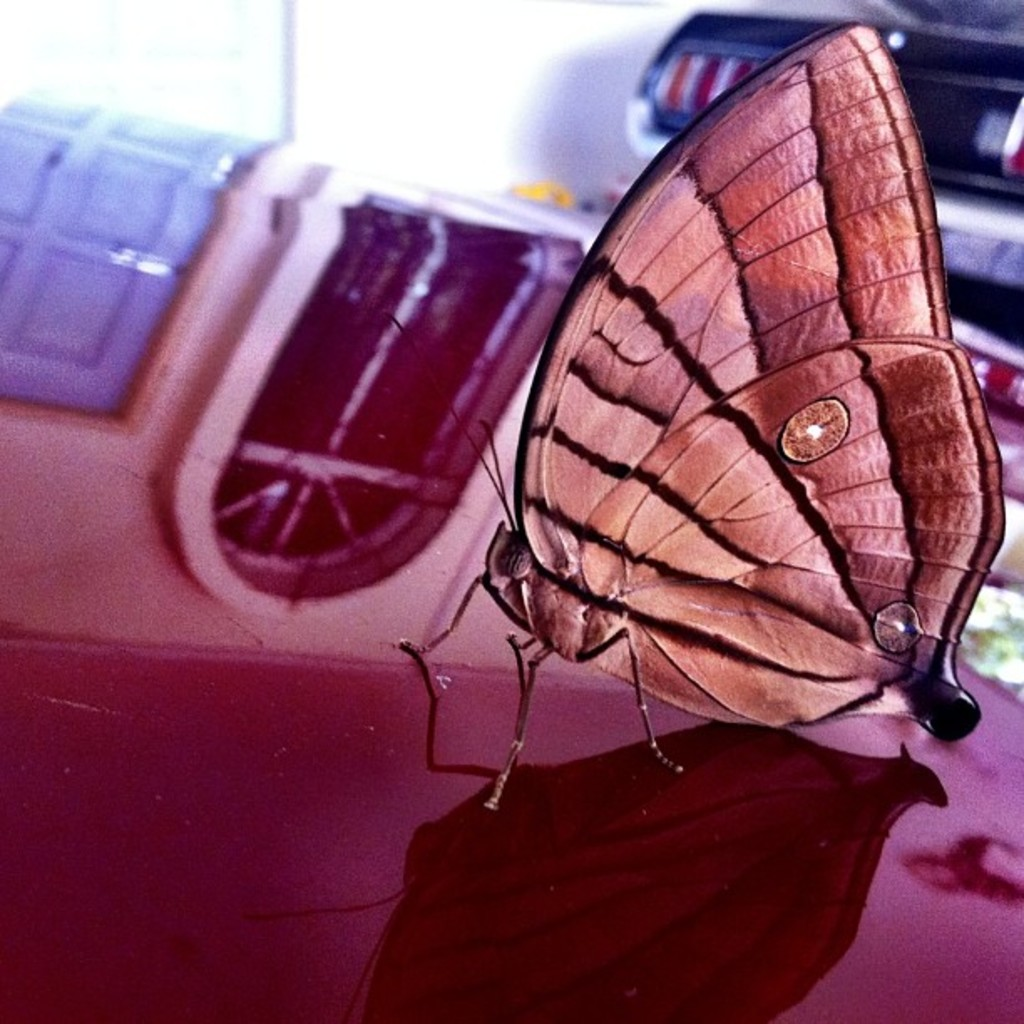Butterfly: (435, 38, 1017, 877)
